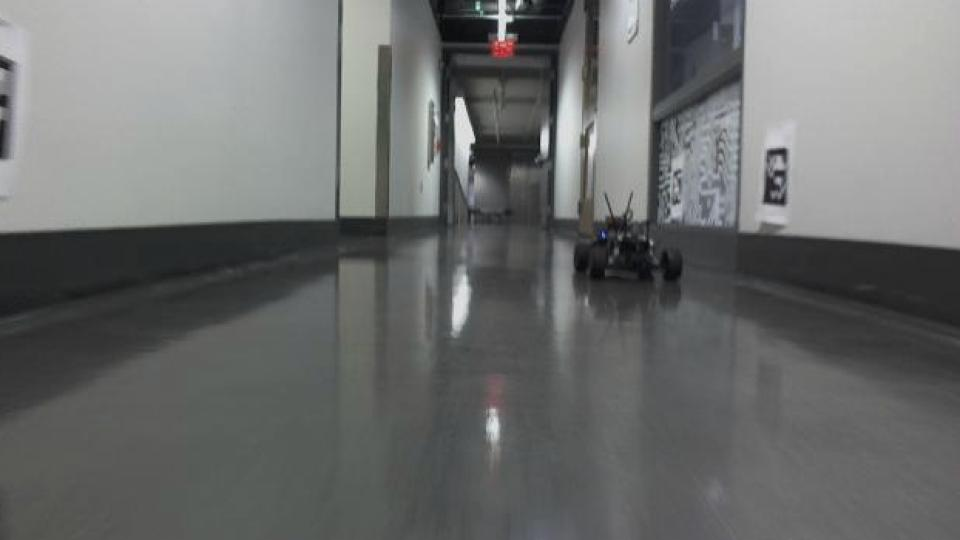car: (568, 188, 685, 287)
